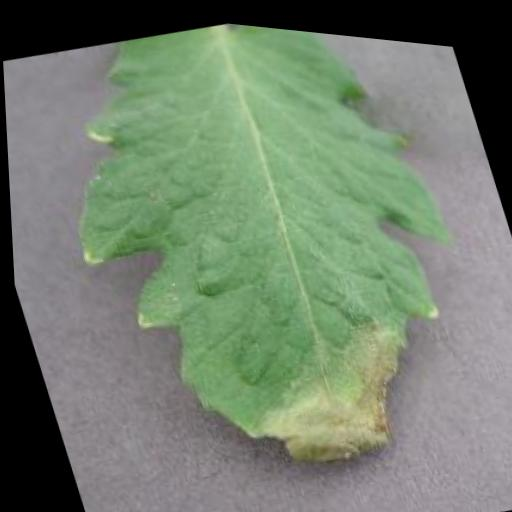Late Blight: (14, 1, 512, 512)
